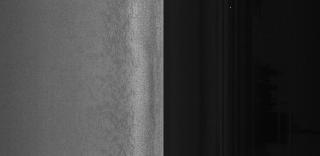silk spot: (108, 52, 132, 104)
